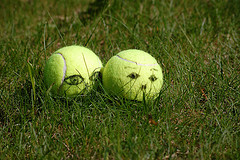tennis ball: (102, 48, 167, 105), (41, 43, 104, 100)
